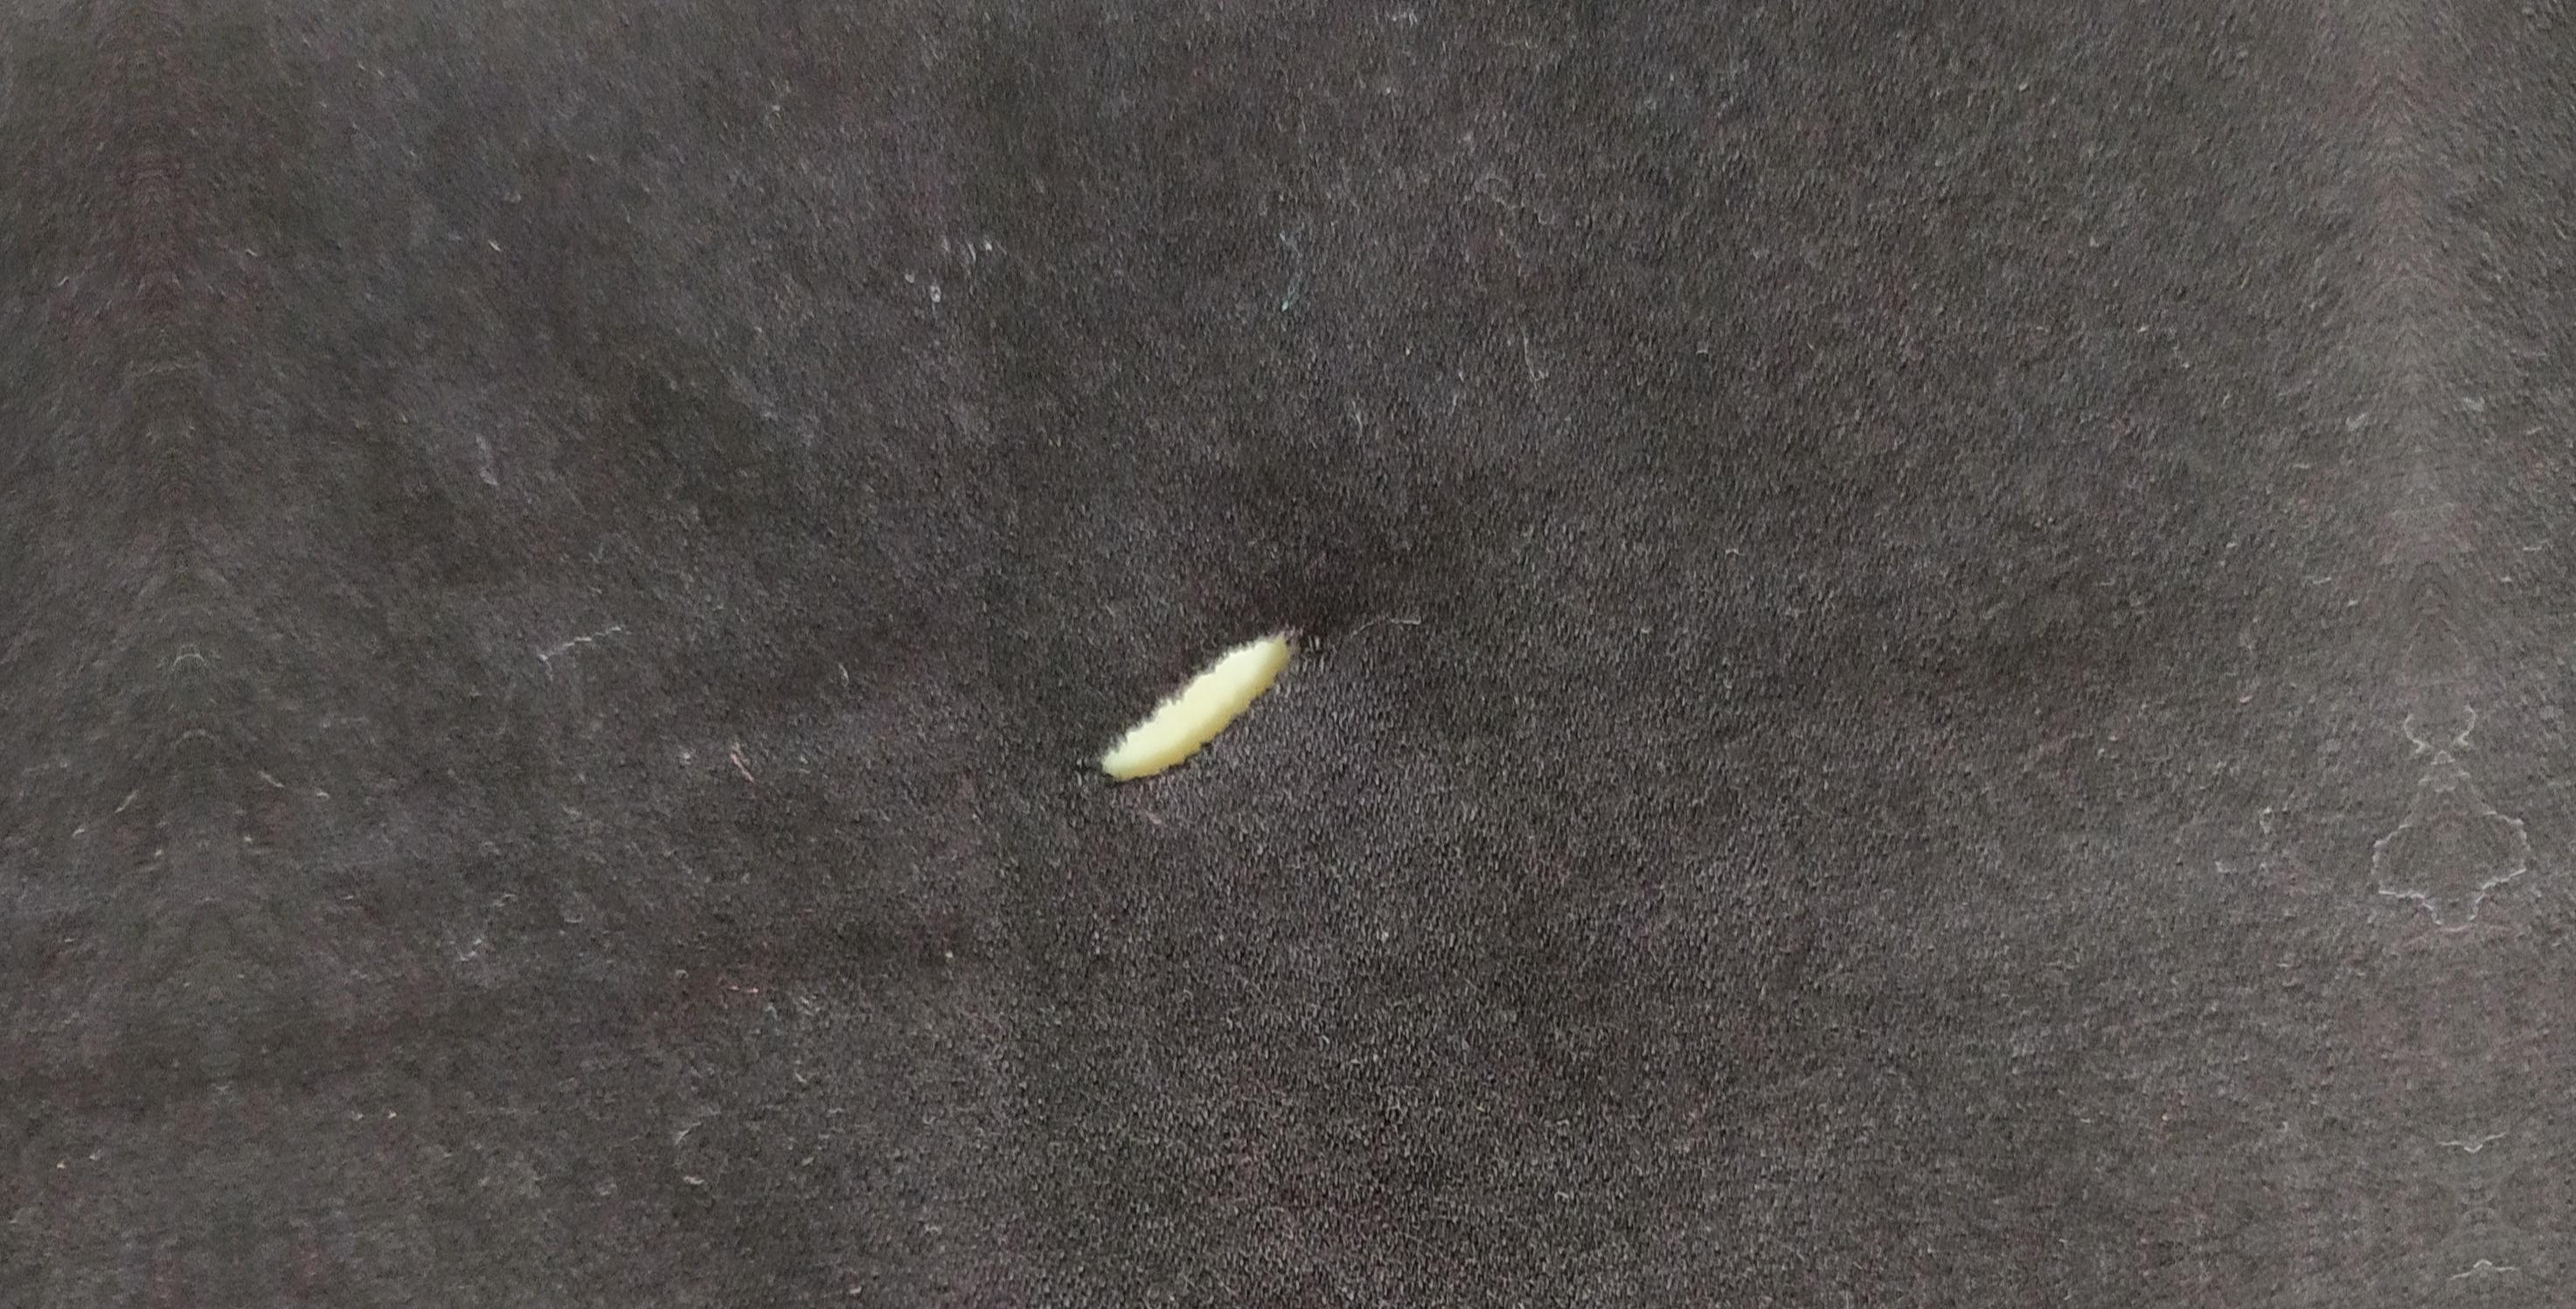hole: (1079, 619, 1311, 798)
